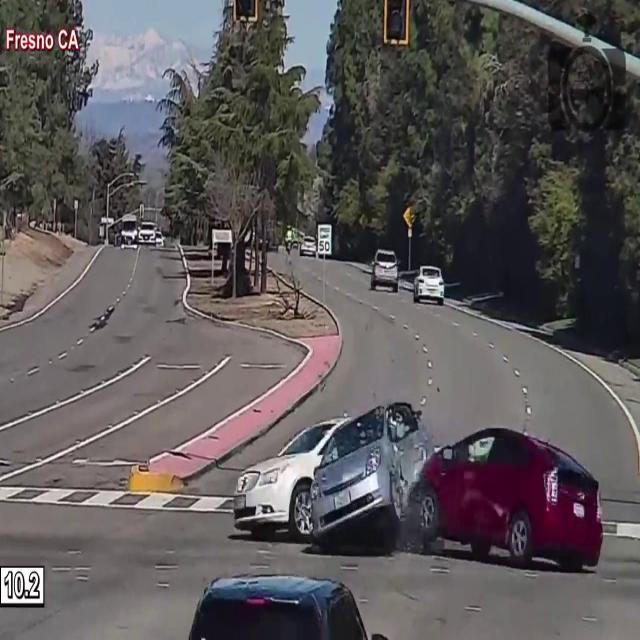accident: (219, 387, 613, 575)
